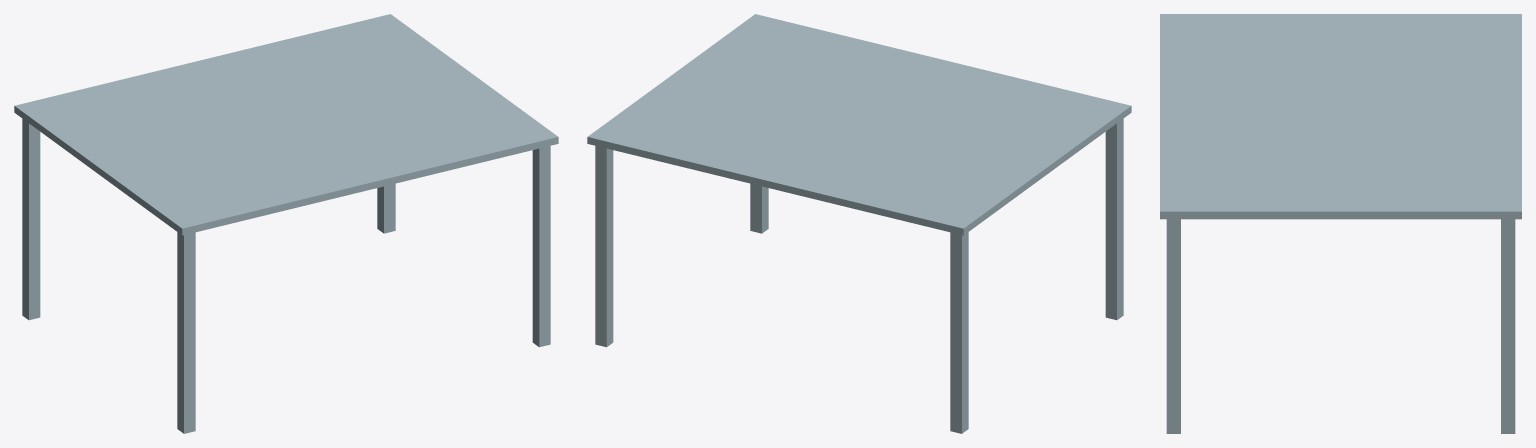
File: kitchen_table_016.glb
3 renders of one model, left to right at view 1: azimuth 30°, elevation 25°; view 2: azimuth 150°, elevation 25°; view 3: azimuth 270°, elevation 25°, orthographic. The views are drawn at different scales.
Visible parts, largest first — view 1: kitchen_table_016; view 2: kitchen_table_016; view 3: kitchen_table_016.
Boxes of the visible parts, left/top/right/bottom form: kitchen_table_016: left=14, top=14, right=558, bottom=433; kitchen_table_016: left=587, top=14, right=1131, bottom=433; kitchen_table_016: left=1160, top=14, right=1521, bottom=433.
Size of the model in its own units: 1.05 by 0.5588 by 0.8152.
1 material, 1 textured.
